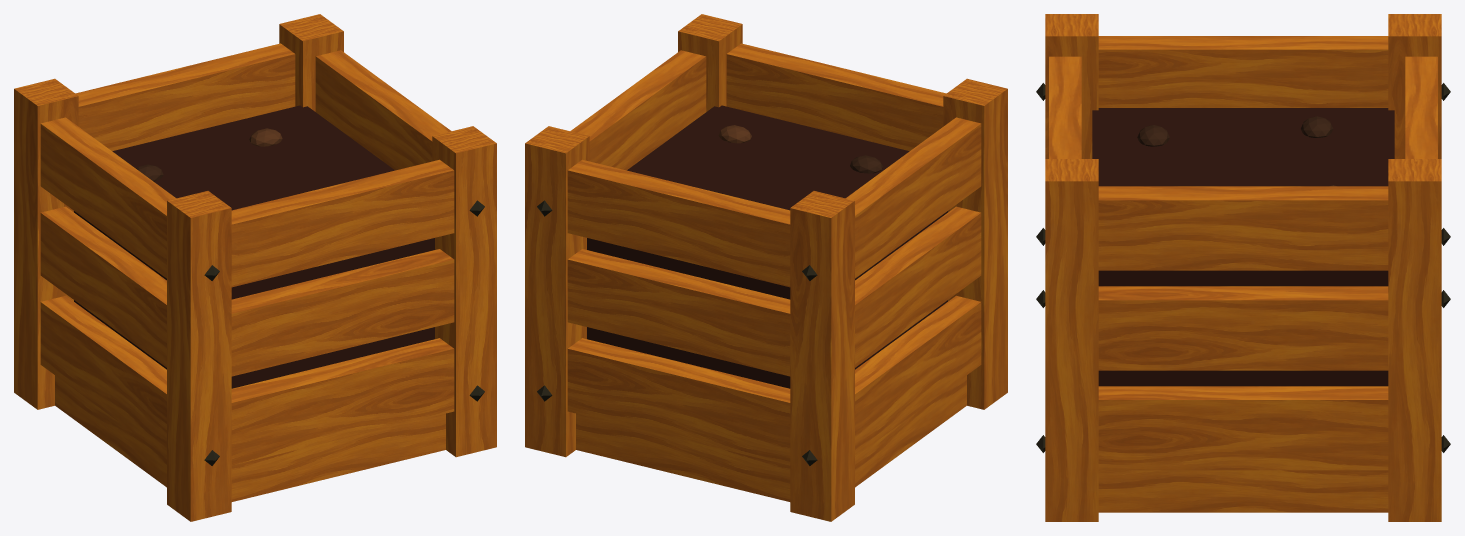
Rendered from nursery-empty.obj.
The picture shows the model from 3 angles, left to right: view 1: azimuth 30°, elevation 25°; view 2: azimuth 150°, elevation 25°; view 3: azimuth 270°, elevation 25°; orthographic projection. The views are drawn at different scales.
Visible parts, largest first — view 1: nursery-empty; view 2: nursery-empty; view 3: nursery-empty.
Part boxes in pixels (x1,y1,x2,y2): nursery-empty: (14, 14, 496, 521); nursery-empty: (525, 14, 1007, 521); nursery-empty: (1036, 14, 1450, 521).
Bounding box in the file's own units: 0.485 × 0.46 × 0.508.
2 materials, 2 textured.
